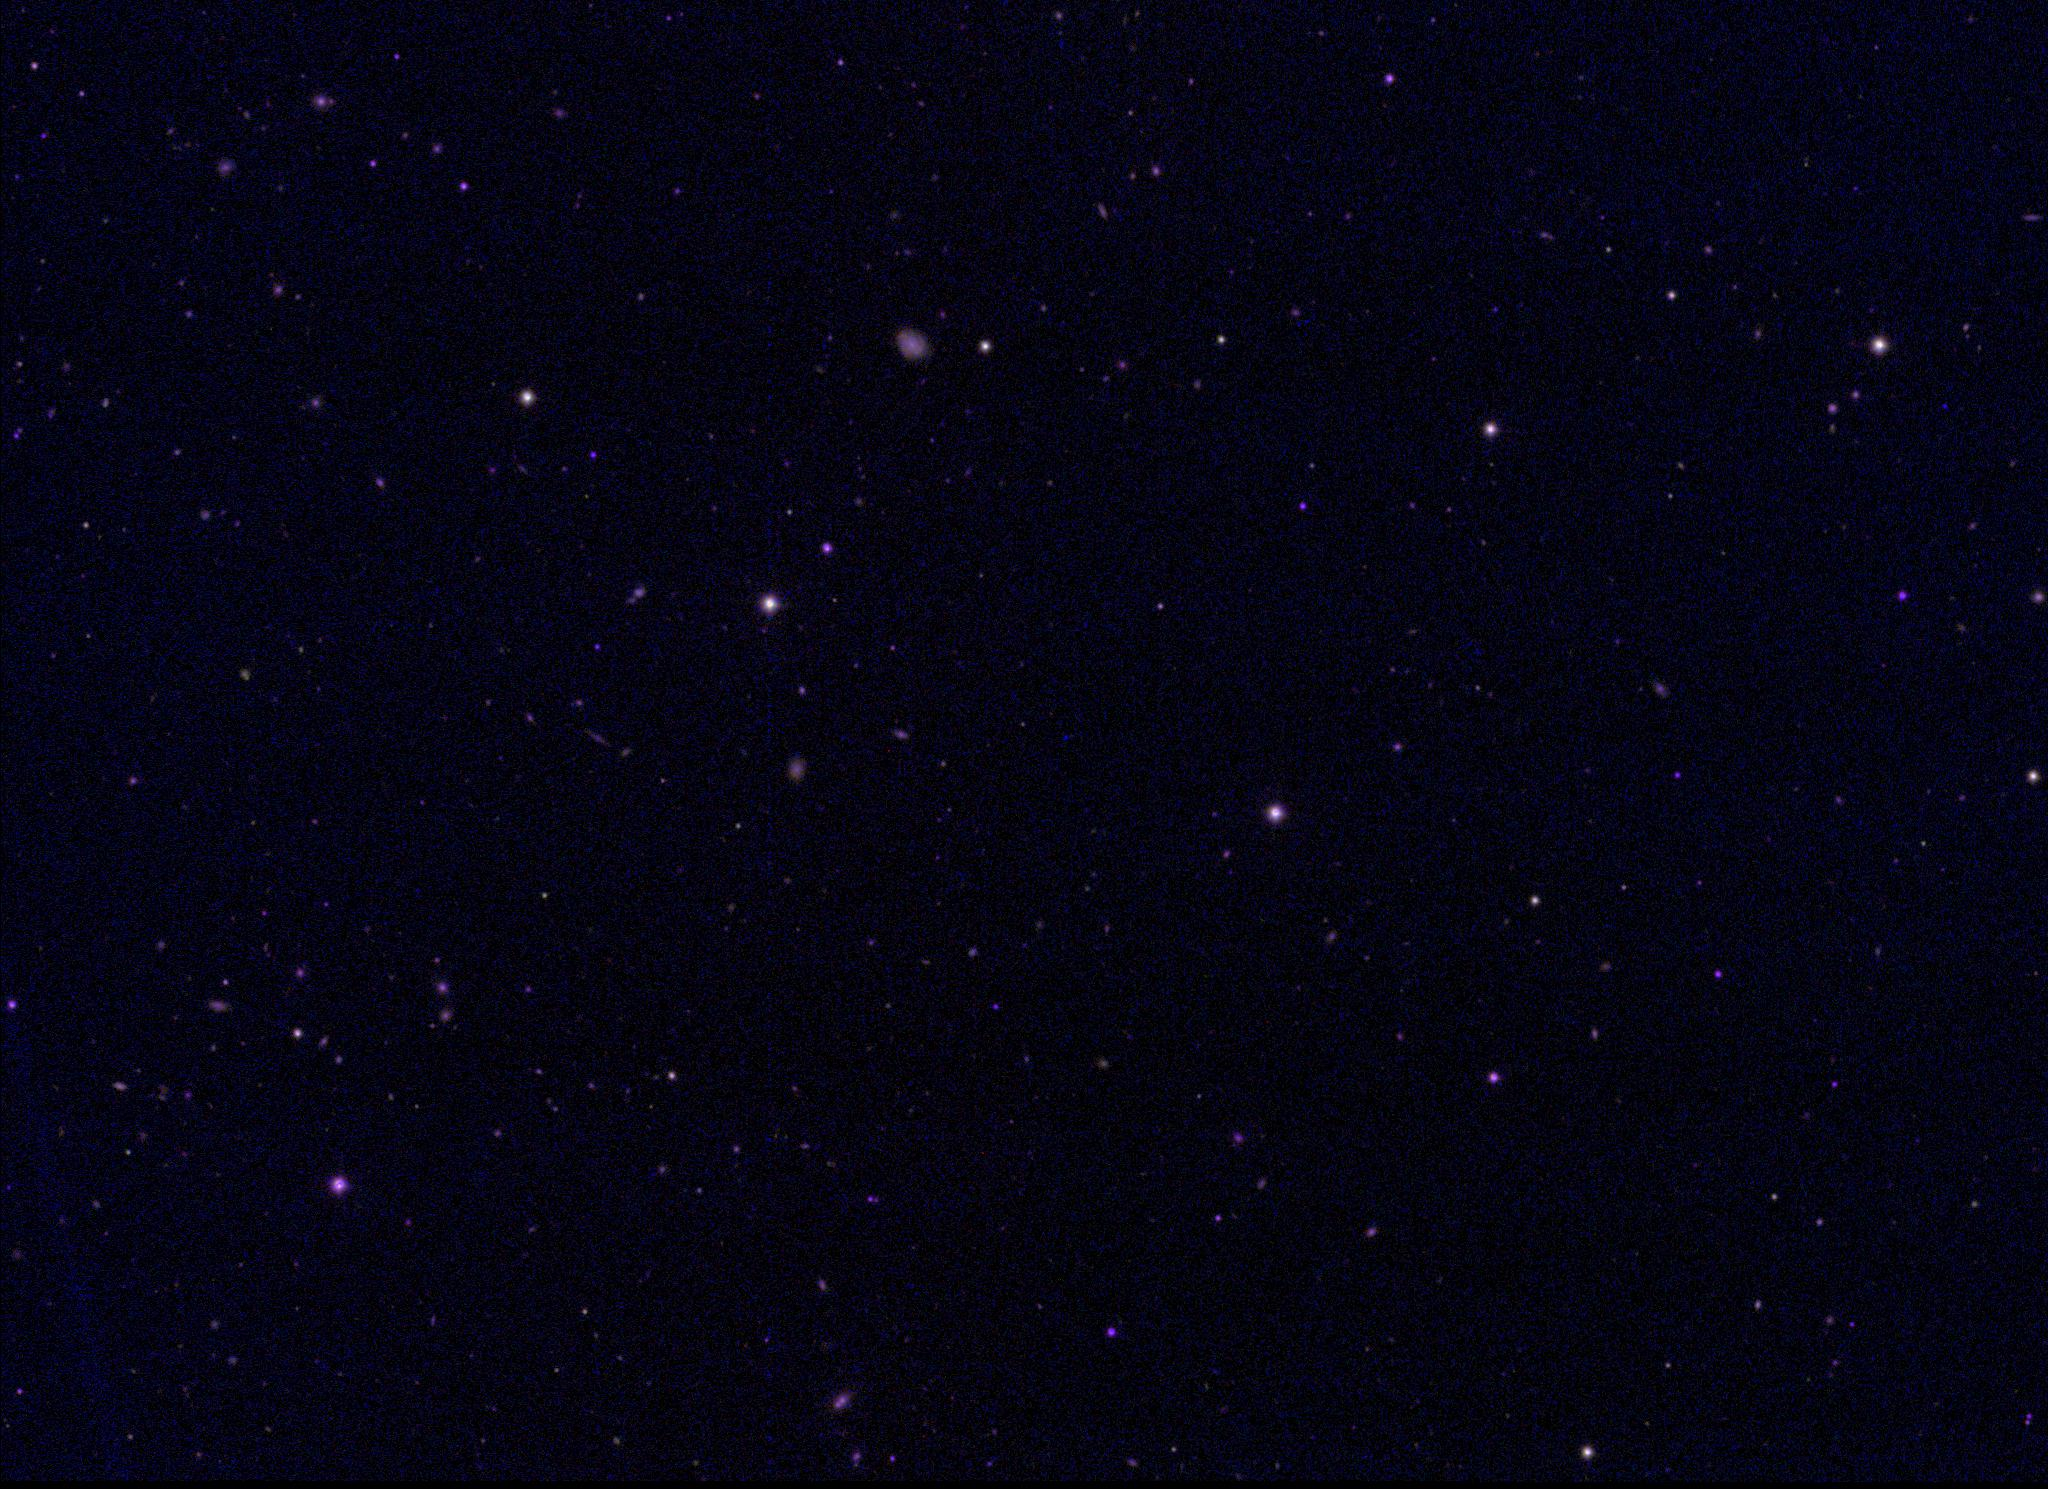L: (1938, 399, 1953, 414)
